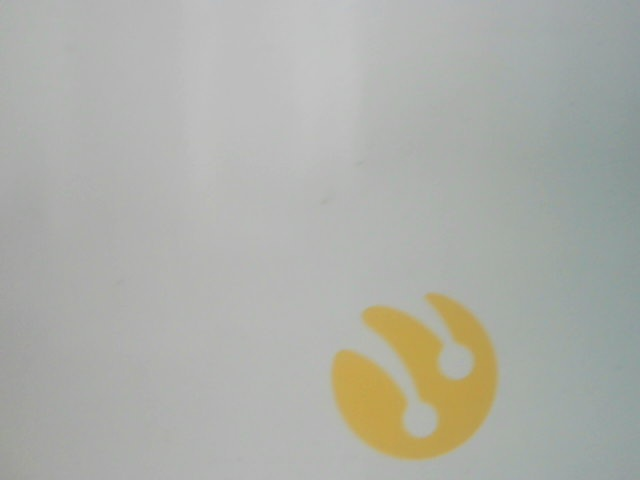AV_H3600Yellow: (314, 287, 505, 457)
